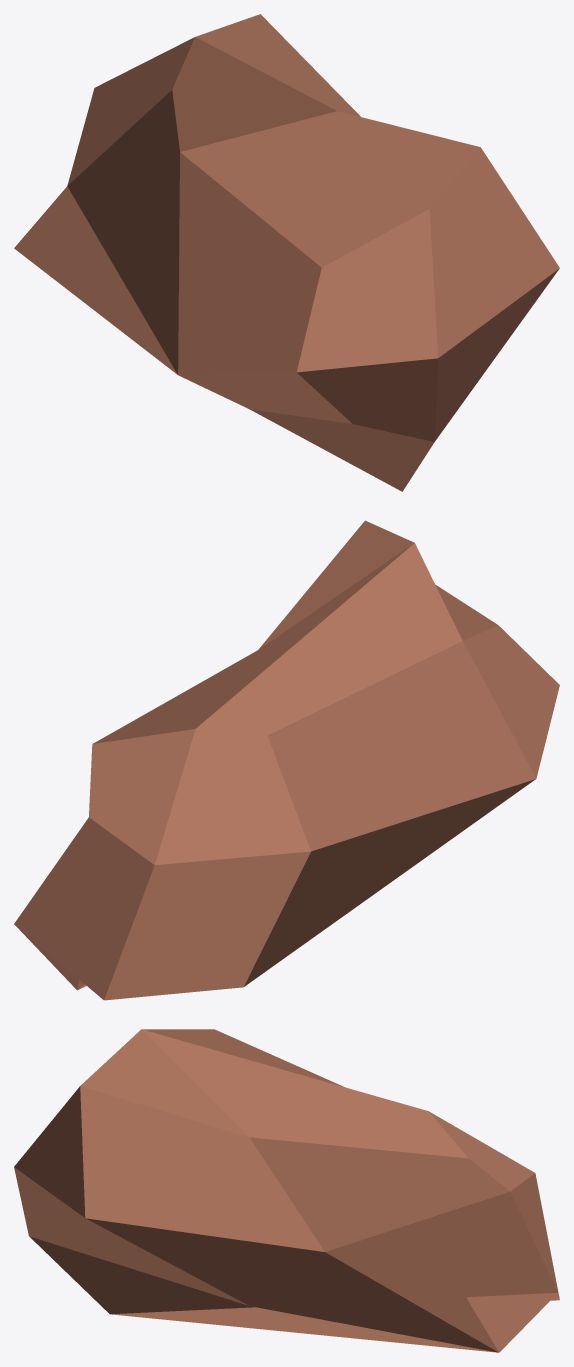
Rendered from kamien 5.fbx.
The picture shows the model from 3 angles, top to bottom: view 1: azimuth 30°, elevation 25°; view 2: azimuth 150°, elevation 25°; view 3: azimuth 270°, elevation 25°; orthographic projection. The views are drawn at different scales.
Parts seen in each view (by area): view 1: Cube; view 2: Cube; view 3: Cube.
Boxes of the visible parts, <box> form: Cube: <box>14,14,559,491</box>; Cube: <box>14,520,559,1000</box>; Cube: <box>14,1029,559,1352</box>.
Bounding box in the file's own units: 180 × 188 × 342.
Materials: 1 (1 with a texture image).
